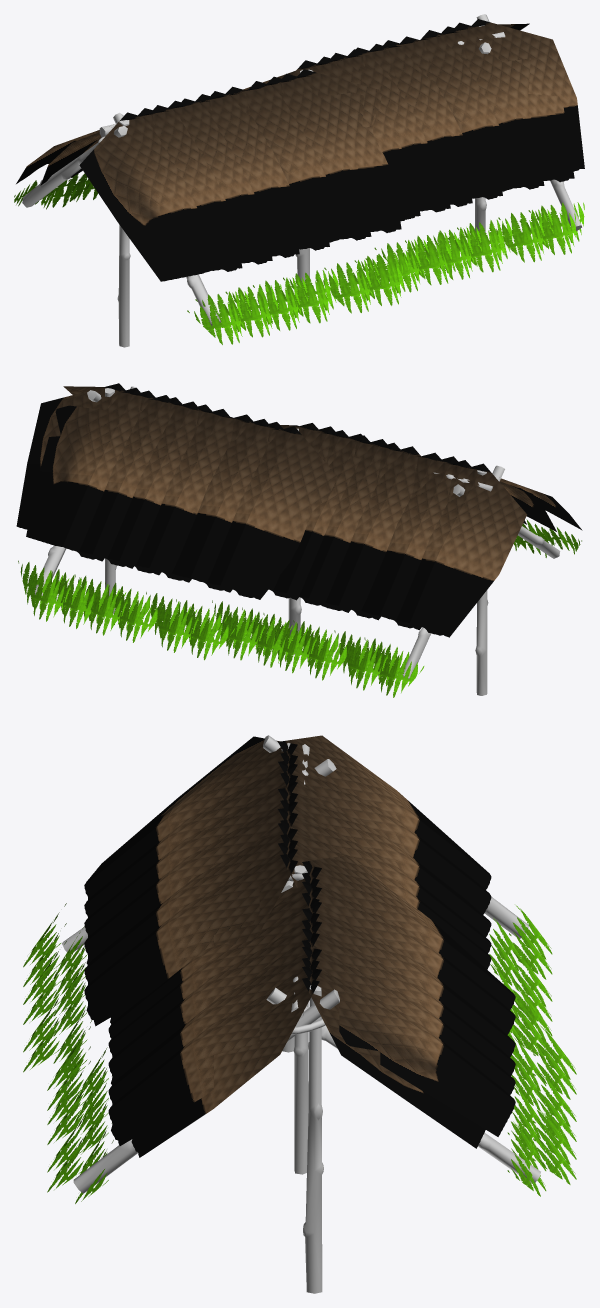
Rendered from Shelter (1).FBX.
3 renders of one model, top to bottom at view 1: azimuth 30°, elevation 25°; view 2: azimuth 150°, elevation 25°; view 3: azimuth 270°, elevation 25°, orthographic. The views are drawn at different scales.
Visible parts, largest first — view 1: Line004; view 2: Line004; view 3: Line004.
Boxes of the visible parts, x1,y1,x2,y2 form: Line004: (14, 14, 584, 347); Line004: (16, 383, 582, 697); Line004: (23, 735, 576, 1293).
Bounding box in the file's own units: 1523 × 687 × 1153.
